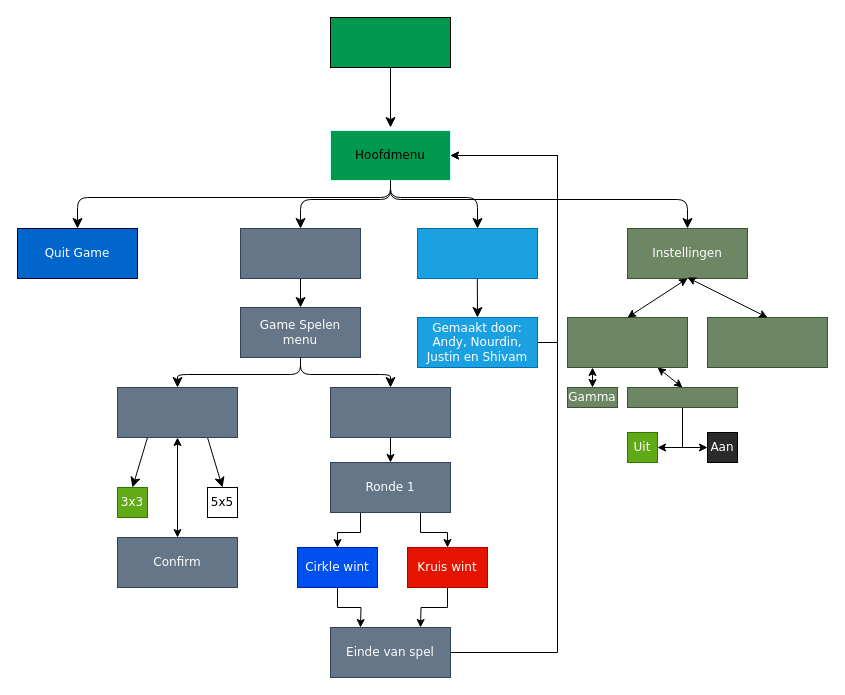
Some shapes in this 845 by 695 pixel diagram are drawn without their labels. Here are the shapes that lost their labels. From the top down, the box of each, then its label:
(330, 16, 450, 68): Opstarten
(240, 228, 360, 278): Game Spelen
(416, 228, 538, 278): Credits
(566, 316, 688, 368): Prestatie
(706, 316, 828, 368): Controles
(116, 386, 238, 438): Kies spel modus
(330, 386, 450, 438): Speel spel
(626, 386, 738, 408): Lichtgevoeligeheid
